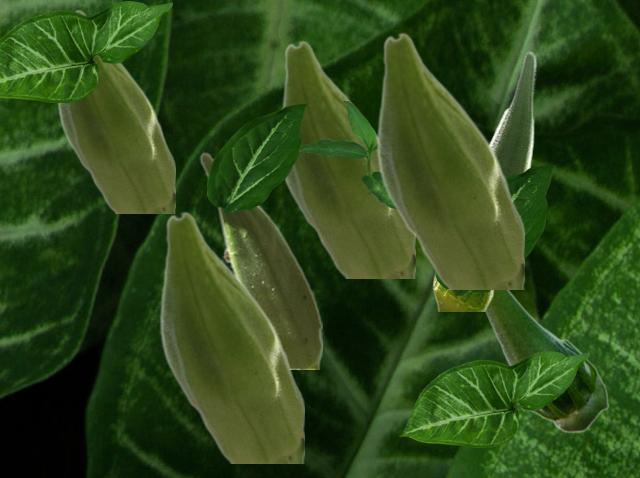okra: (376, 32, 523, 288), (159, 211, 303, 462), (281, 40, 414, 277), (432, 50, 535, 310), (199, 151, 321, 368), (57, 9, 174, 212), (484, 289, 608, 432)
